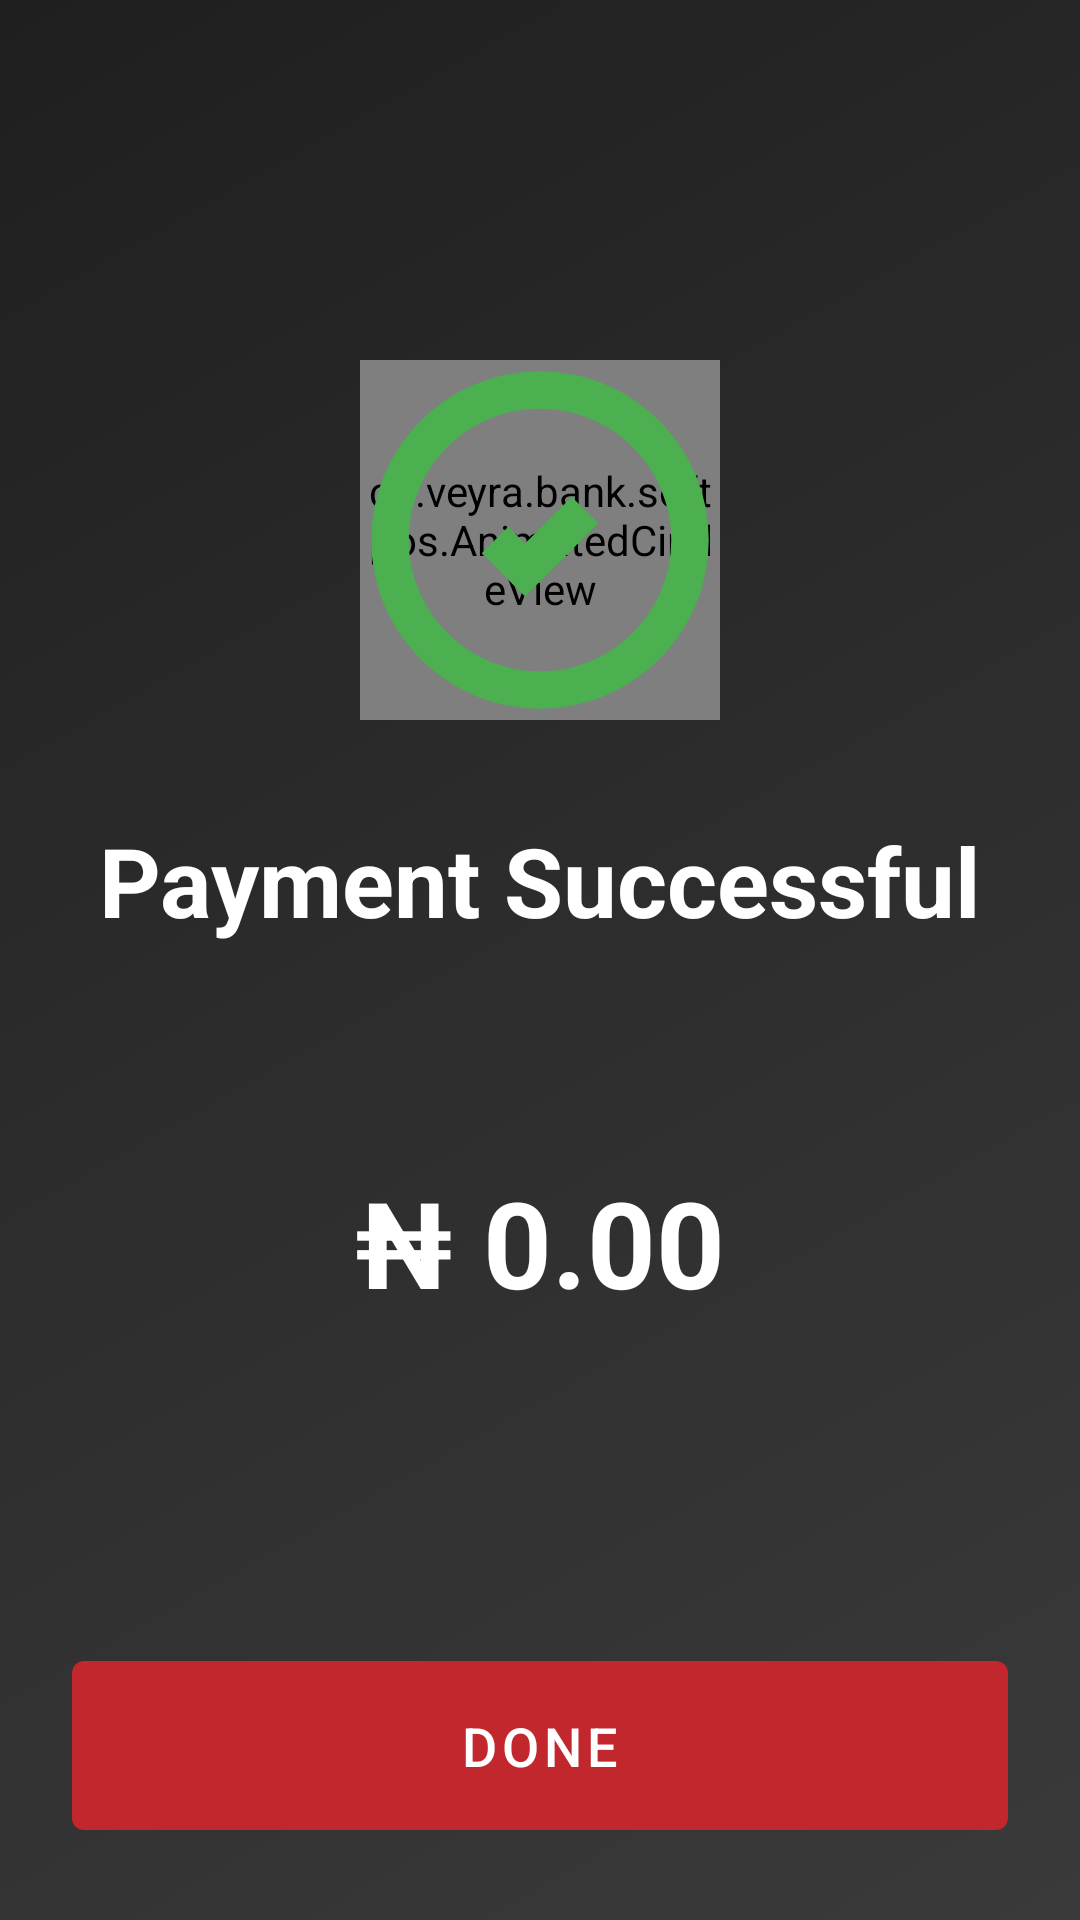

Locate icon controls on the screen. Image size 1080px x 1920px, boxes as (x1, y1, x2, y2).
Payment result: (360, 360, 720, 720)
